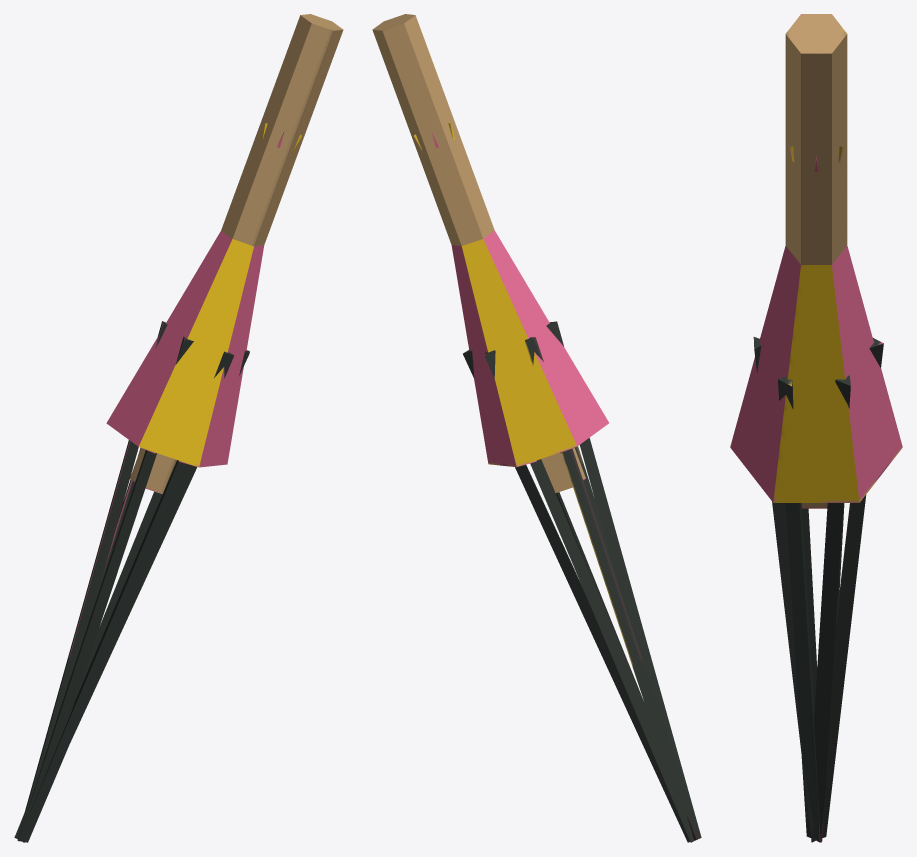
Rendered from slunecnik_2b65e73a.glb.
The picture shows the model from 3 angles, left to right: view 1: azimuth 30°, elevation 25°; view 2: azimuth 150°, elevation 25°; view 3: azimuth 270°, elevation 25°; orthographic projection. The views are drawn at different scales.
Parts seen in each view (by area): view 1: dum; view 2: dum; view 3: dum.
Part boxes in pixels (left/top/right/bottom): dum: left=14, top=14, right=343, bottom=842; dum: left=372, top=14, right=701, bottom=842; dum: left=730, top=14, right=902, bottom=842.
Bounding box in the file's own units: 0.4032 × 0.9027 × 0.1396.
1 material, 1 textured.
